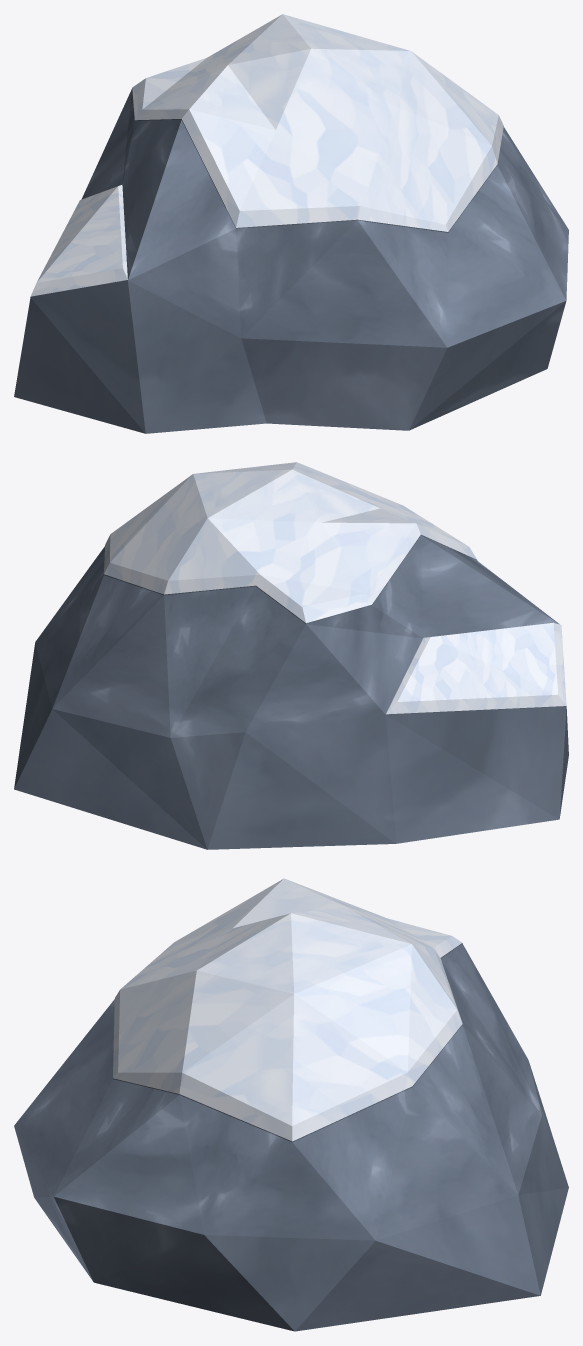
Rendered from Rock01.fbx.
3 renders of one model, top to bottom at view 1: azimuth 30°, elevation 25°; view 2: azimuth 150°, elevation 25°; view 3: azimuth 270°, elevation 25°, orthographic. The views are drawn at different scales.
Parts seen in each view (by area): view 1: Rock01; view 2: Rock01; view 3: Rock01.
Part boxes in pixels (x1,y1,x2,y2): Rock01: [14, 14, 568, 433]; Rock01: [14, 462, 568, 849]; Rock01: [14, 878, 568, 1331].
Bounding box in the file's own units: 219 × 114 × 192.
